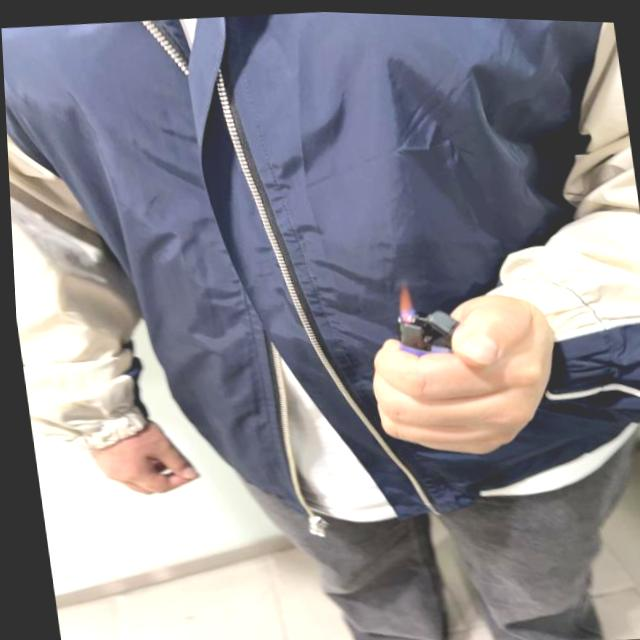Fire: (391, 278, 410, 317)
